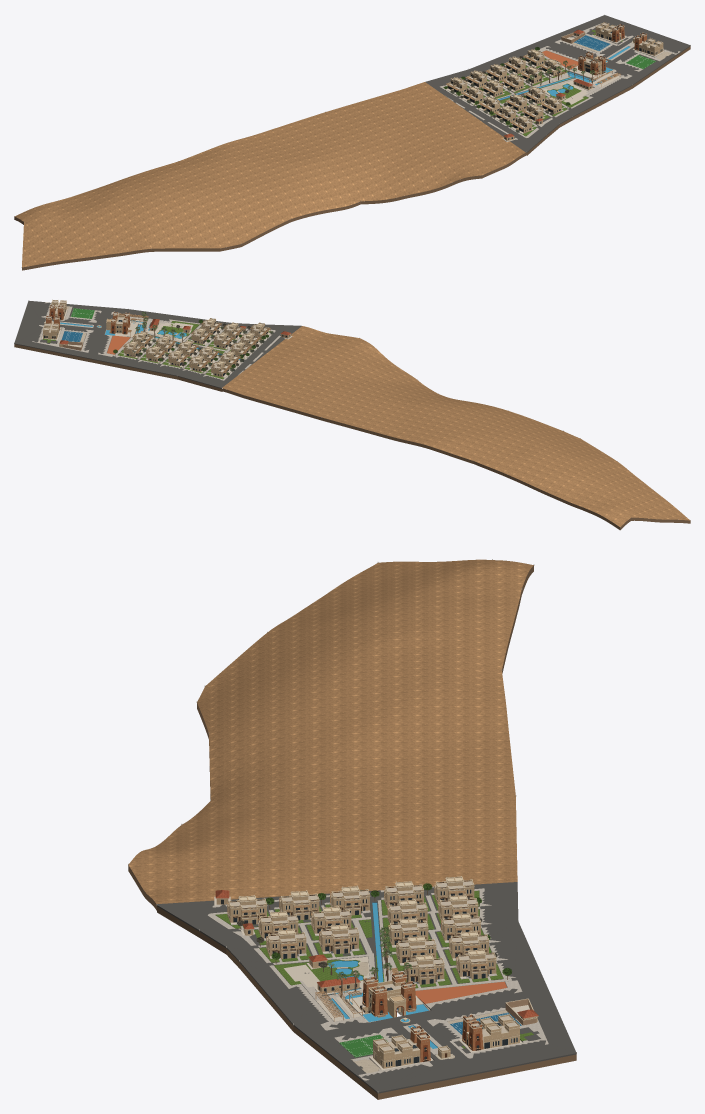
Rendered from Mirleft_Tranche_AB_AE_centred.glb.
3 renders of one model, top to bottom at view 1: azimuth 30°, elevation 25°; view 2: azimuth 150°, elevation 25°; view 3: azimuth 270°, elevation 25°, orthographic. The views are drawn at different scales.
Visible parts, largest first — view 1: TERRAIN_SITE_EMPTY_LAND, GROUND_ASPHALT_BASE_asphalt, GROUND_PAVING_kerb_paving, GROUND_LAWN_lawn, ADMINISTRATION, COMMERCE, RESTAURANT, GROUND_DECK_terrace, GROUND_WATER_pool_water; view 2: TERRAIN_SITE_EMPTY_LAND, GROUND_ASPHALT_BASE_asphalt, GROUND_PAVING_kerb_paving, GROUND_LAWN_lawn, ADMINISTRATION, RESTAURANT; view 3: TERRAIN_SITE_EMPTY_LAND, GROUND_ASPHALT_BASE_asphalt, GROUND_PAVING_kerb_paving, GROUND_LAWN_lawn, ADMINISTRATION, COMMERCE, RESTAURANT, GROUND_DECK_terrace, DUPLEX_05, DUPLEX_13, DUPLEX_10, DUPLEX_16 (+9 smaller).
Part boxes in pixels (box(x1,y1,x2,y2)): TERRAIN_SITE_EMPTY_LAND: box(14, 14, 690, 270); GROUND_ASPHALT_BASE_asphalt: box(425, 15, 690, 152); GROUND_PAVING_kerb_paving: box(440, 23, 680, 139); GROUND_LAWN_lawn: box(443, 30, 622, 136); ADMINISTRATION: box(569, 51, 613, 80); COMMERCE: box(632, 32, 664, 57); RESTAURANT: box(594, 22, 626, 43); GROUND_DECK_terrace: box(543, 73, 620, 104); GROUND_WATER_pool_water: box(498, 46, 630, 100); TERRAIN_SITE_EMPTY_LAND: box(14, 325, 690, 530); GROUND_ASPHALT_BASE_asphalt: box(14, 300, 301, 388); GROUND_PAVING_kerb_paving: box(32, 302, 280, 380); GROUND_LAWN_lawn: box(43, 321, 272, 379); ADMINISTRATION: box(104, 311, 138, 337); RESTAURANT: box(41, 315, 61, 339); TERRAIN_SITE_EMPTY_LAND: box(128, 559, 576, 1099); GROUND_ASPHALT_BASE_asphalt: box(157, 882, 576, 1093); GROUND_PAVING_kerb_paving: box(207, 886, 548, 1080); GROUND_LAWN_lawn: box(215, 890, 533, 1048); ADMINISTRATION: box(346, 971, 429, 1022); COMMERCE: box(369, 1025, 433, 1070); RESTAURANT: box(458, 1013, 522, 1052); GROUND_DECK_terrace: box(284, 956, 369, 1021); DUPLEX_05: box(455, 949, 496, 979); DUPLEX_13: box(318, 924, 359, 954); DUPLEX_10: box(404, 954, 444, 984); DUPLEX_16: box(266, 928, 306, 959).
Bounding box in the file's own units: 672 × 71.74 × 197.
35 materials, 21 textured.
